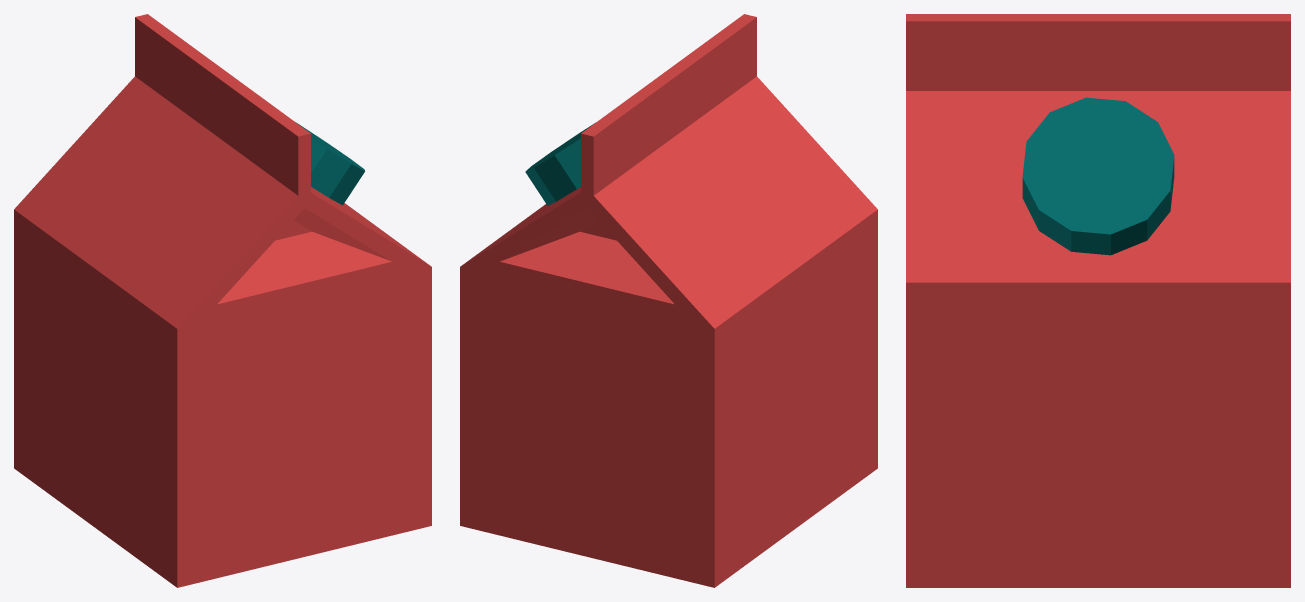
Rendered from Kitchen_SmallProps_Carton_HeavyCream.fbx.
3 views of the same model, side by side, from view 1: azimuth 30°, elevation 25°; view 2: azimuth 150°, elevation 25°; view 3: azimuth 270°, elevation 25° (orthographic). The views are drawn at different scales.
Parts seen in each view (by area): view 1: Dairy_Carton; view 2: Dairy_Carton; view 3: Dairy_Carton.
Boxes of the visible parts, bbox=[...] form: Dairy_Carton: bbox=[14, 14, 431, 587]; Dairy_Carton: bbox=[460, 14, 877, 587]; Dairy_Carton: bbox=[906, 14, 1290, 587].
Bounding box in the file's own units: 0.9181 × 1.42 × 1.
